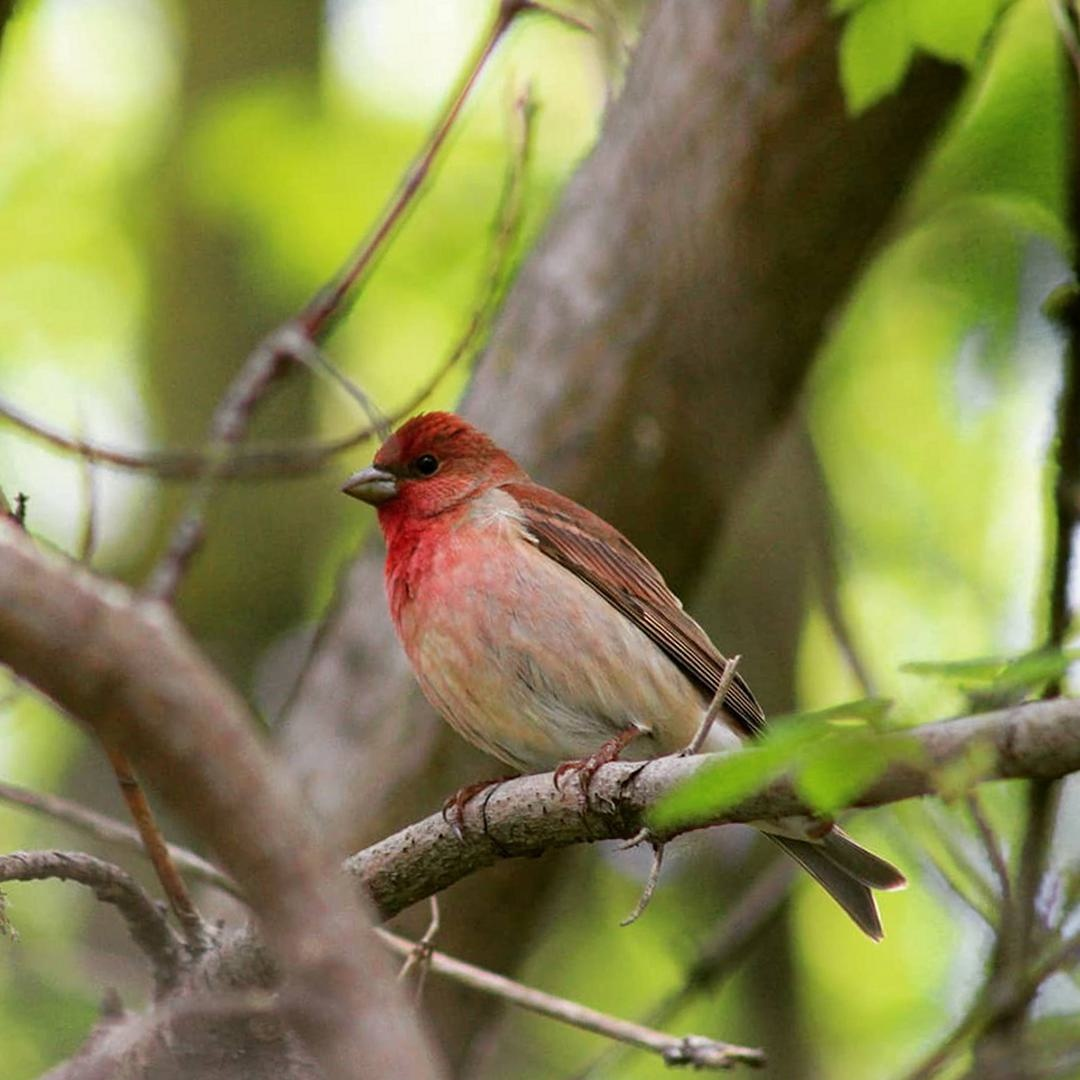rosefinch: (344, 386, 803, 850)
